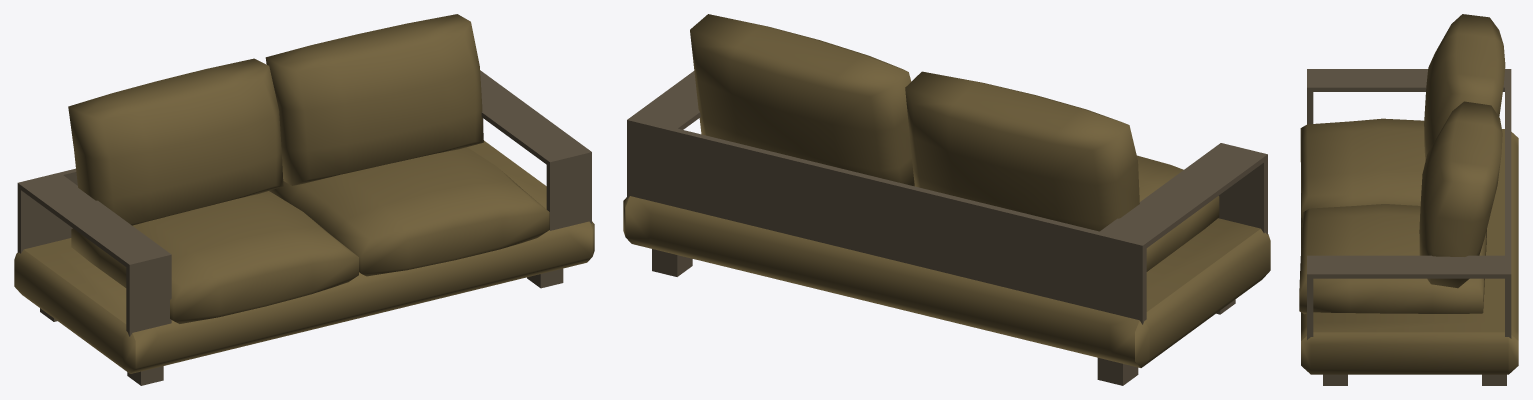
The model's file is couch-medium2.glb.
The picture shows the model from 3 angles, left to right: view 1: azimuth 30°, elevation 25°; view 2: azimuth 150°, elevation 25°; view 3: azimuth 270°, elevation 25°; orthographic projection. The views are drawn at different scales.
Parts seen in each view (by area): view 1: Couch_Medium2; view 2: Couch_Medium2; view 3: Couch_Medium2.
Part boxes in pixels (<box>): Couch_Medium2: <box>14,14,594,385</box>; Couch_Medium2: <box>623,14,1270,385</box>; Couch_Medium2: <box>1299,14,1518,385</box>.
Size of the model in its own units: 4.52 by 1.96 by 2.
